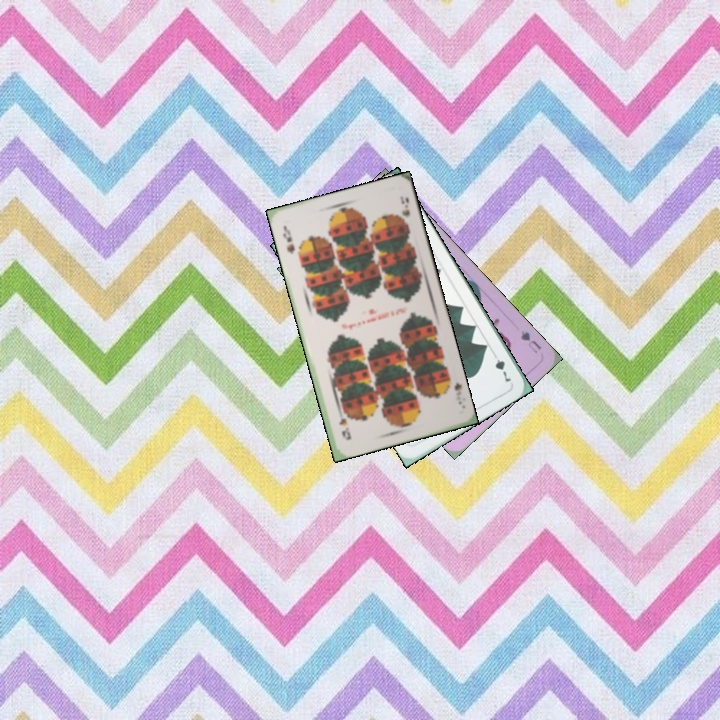G7: (488, 348, 514, 384)
GU: (516, 327, 544, 356)
S9: (279, 221, 297, 257), (450, 378, 465, 407)
